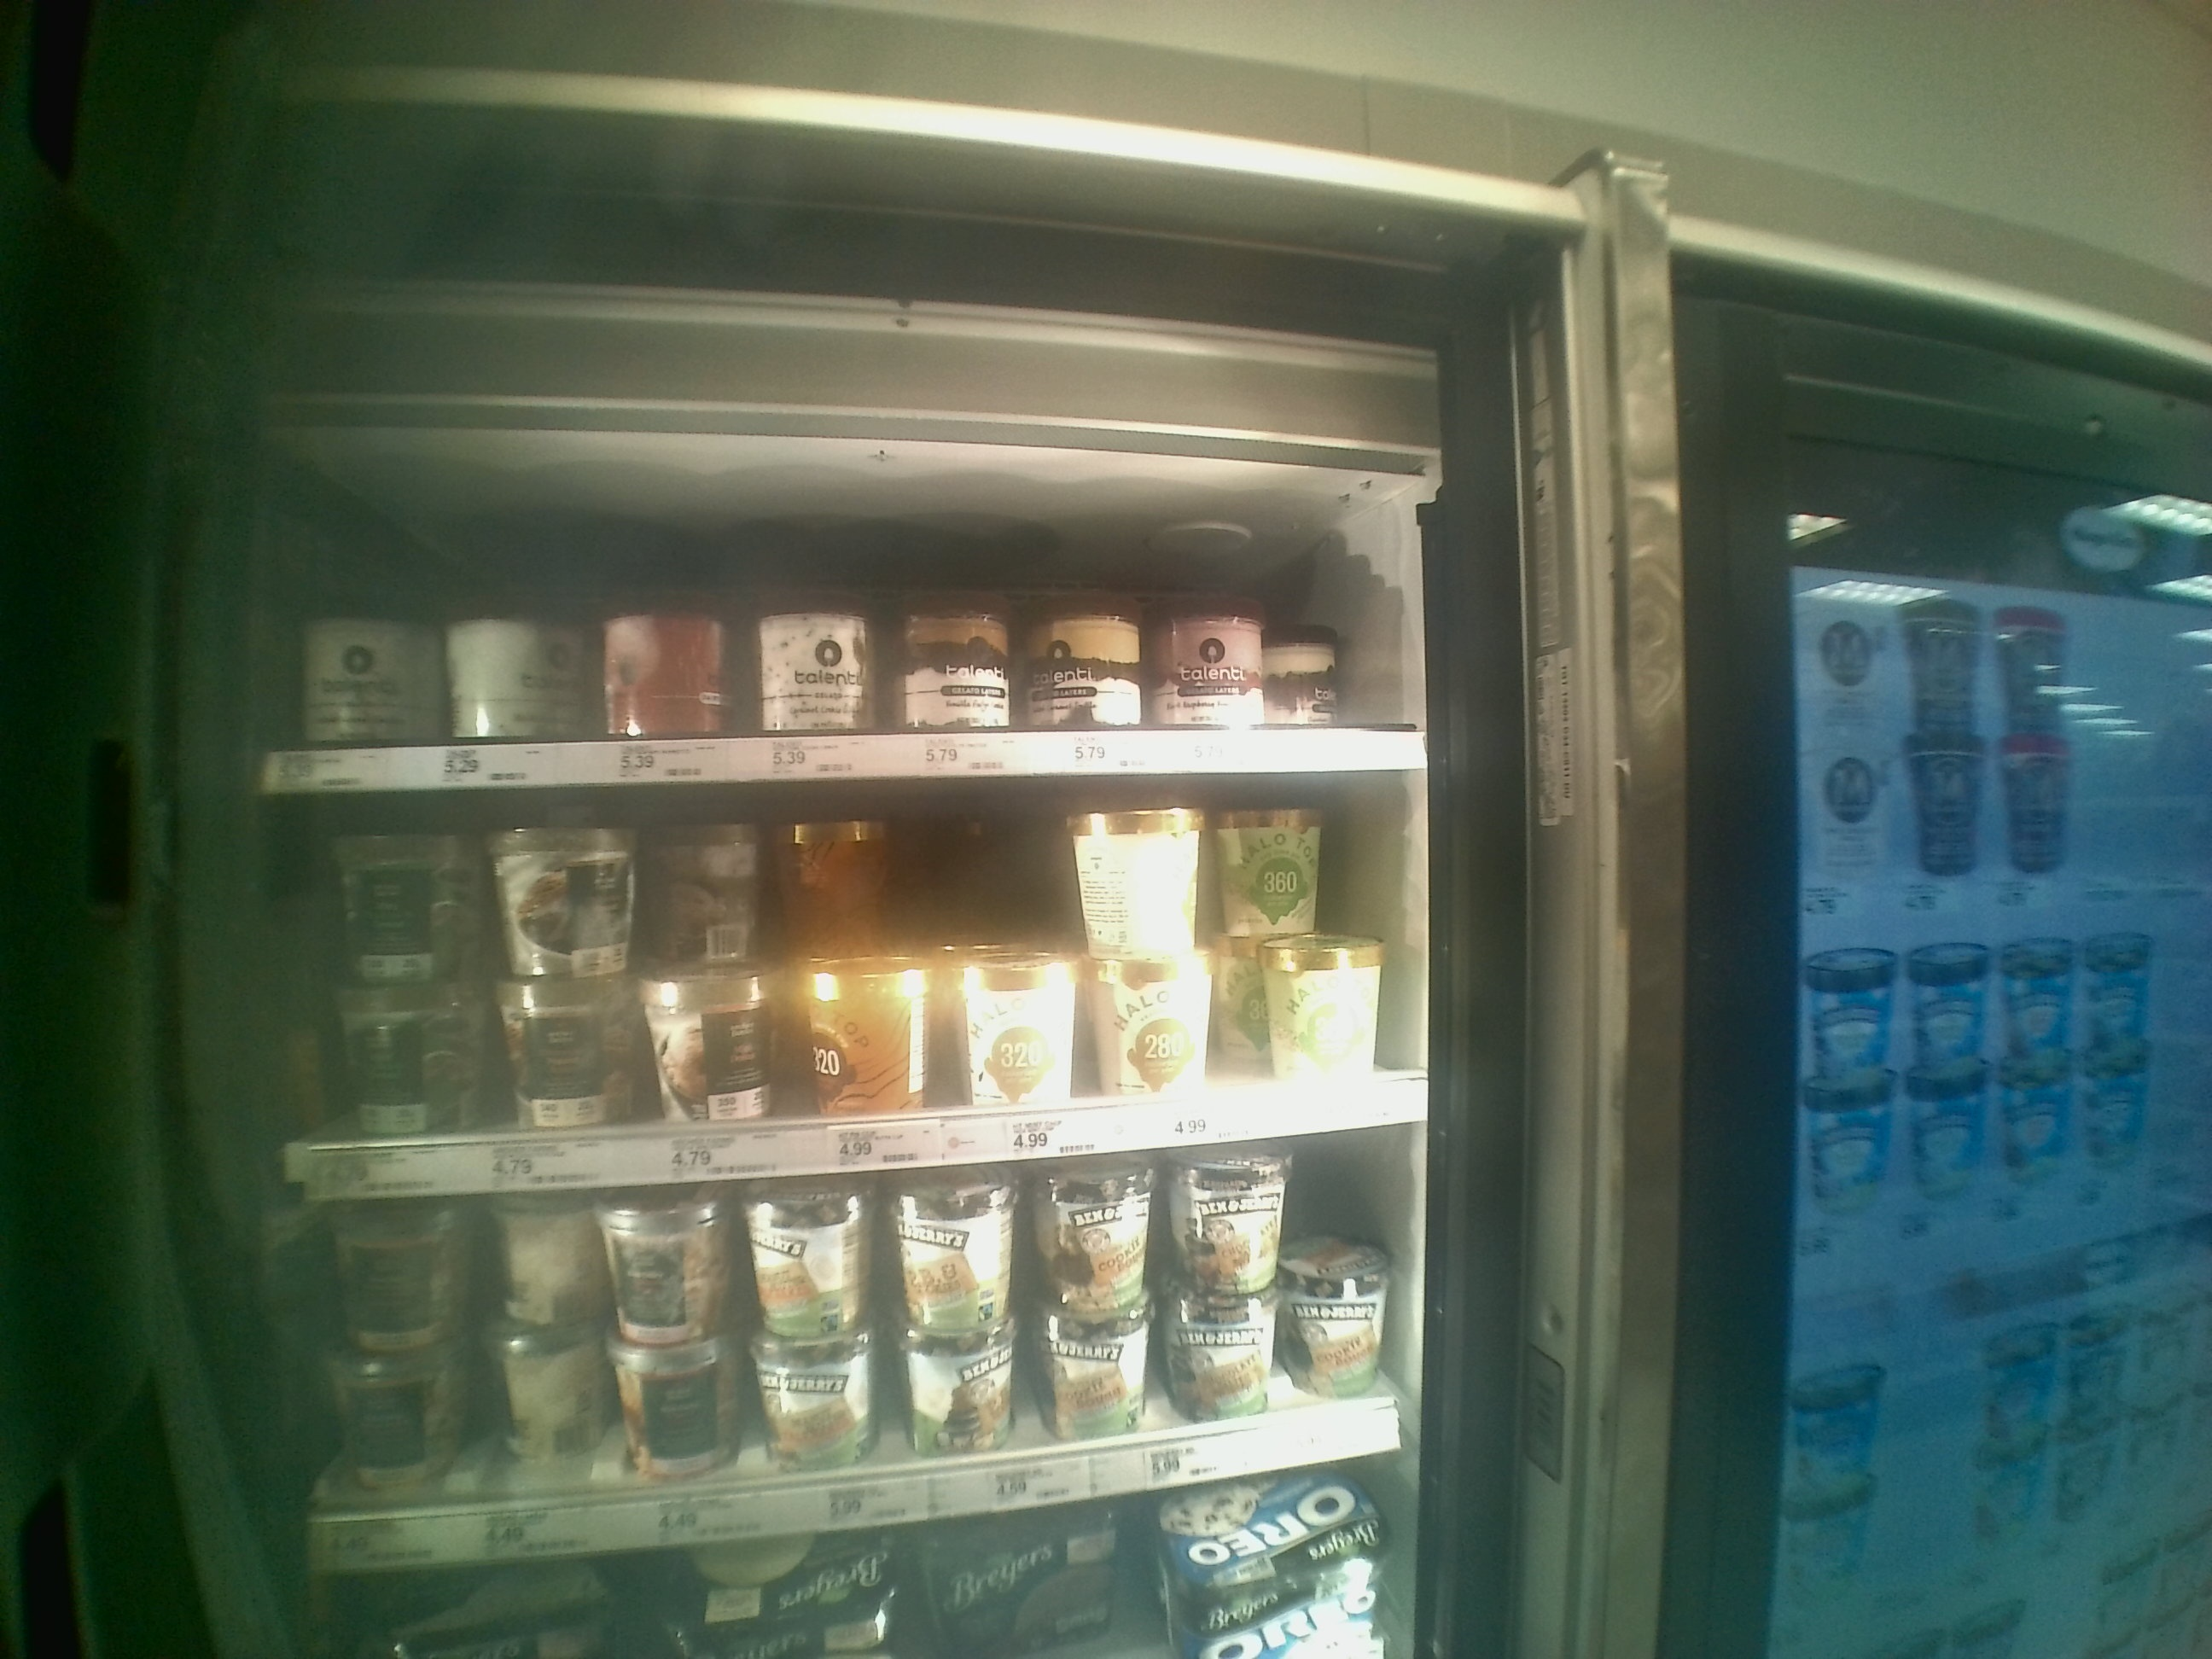ice-cream-shelf: (254, 1121, 1425, 1527), (256, 782, 1425, 1150), (256, 490, 1428, 774)
